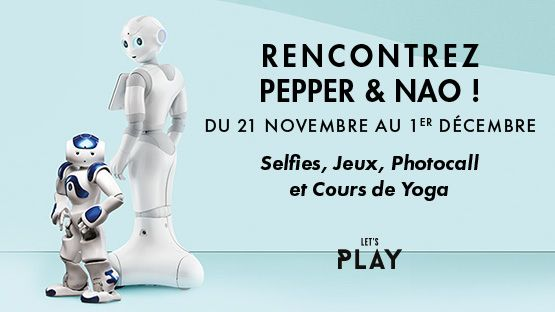nao: (37, 130, 131, 306)
